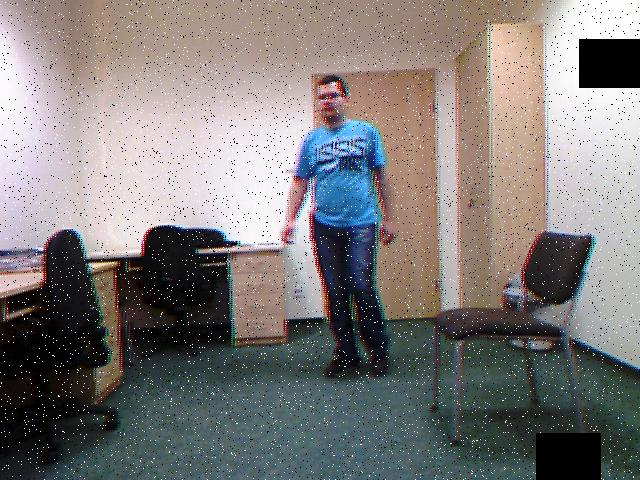walking: (271, 55, 404, 381)
